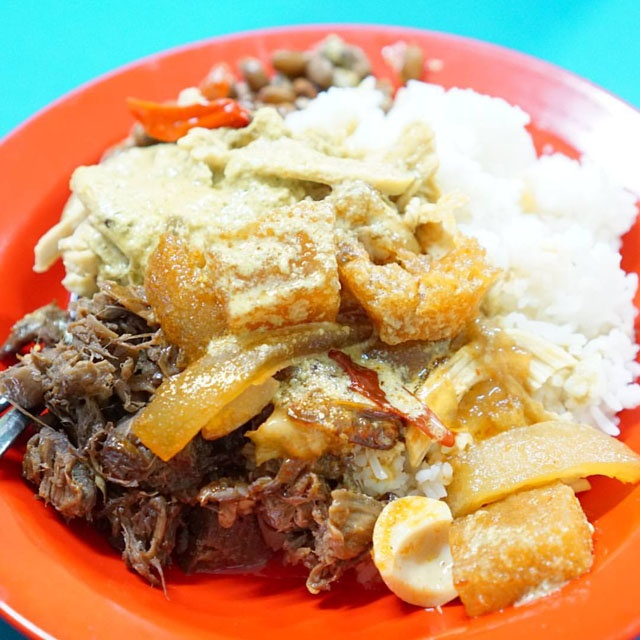gudeg: (3, 46, 640, 613)
